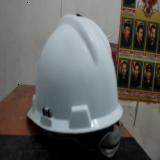Helmet: (27, 15, 123, 134)
